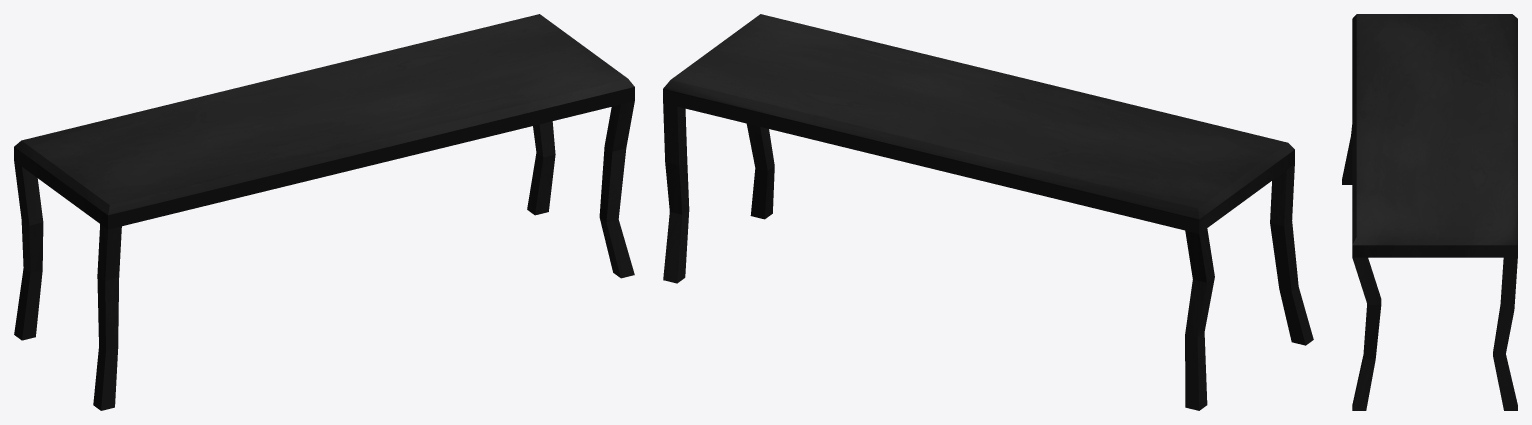
The model's file is Stol.fbx.
3 views of the same model, side by side, from view 1: azimuth 30°, elevation 25°; view 2: azimuth 150°, elevation 25°; view 3: azimuth 270°, elevation 25° (orthographic). The views are drawn at different scales.
Visible parts, largest first — view 1: Box002; view 2: Box002; view 3: Box002.
Part boxes in pixels (left/top/right/bottom): Box002: left=14, top=14, right=634, bottom=410; Box002: left=663, top=14, right=1313, bottom=410; Box002: left=1342, top=14, right=1517, bottom=410.
Size of the model in its own units: 128 by 44.27 by 40.94.
Materials: 1 (1 with a texture image).
